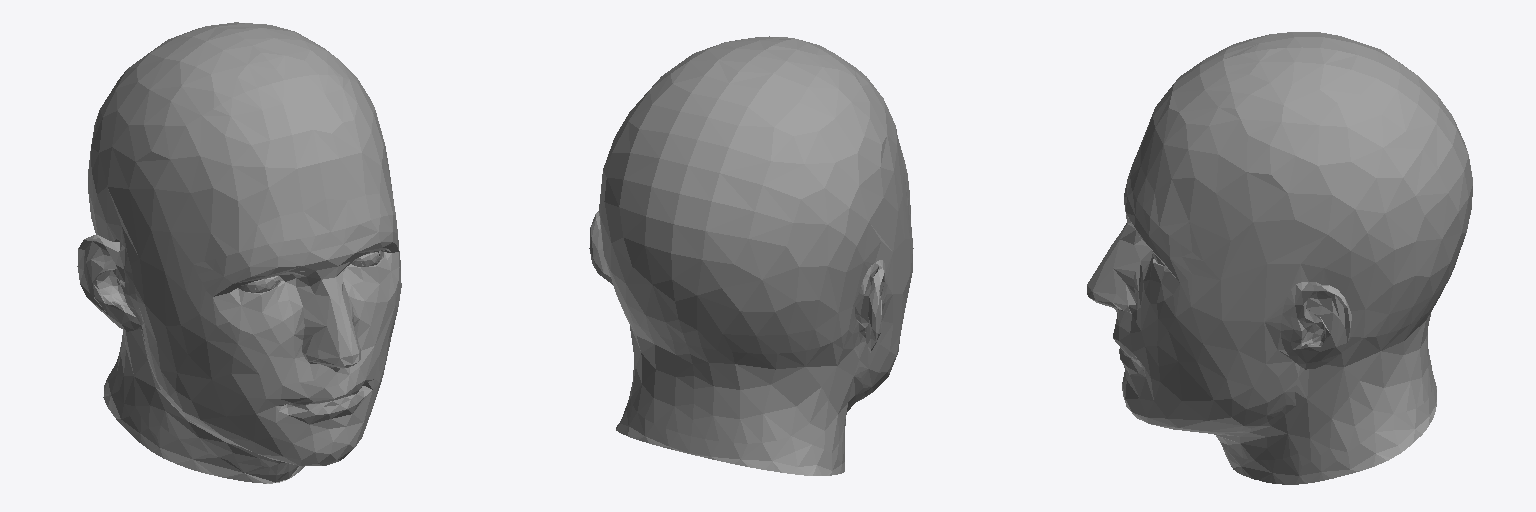
Rendered from BaseHeadMeshes_v5_male_cropped_reduced_compressed.obj.
The picture shows the model from 3 angles: view 1: azimuth 30°, elevation 25°; view 2: azimuth 150°, elevation 25°; view 3: azimuth 270°, elevation 25°; orthographic projection.
Visible parts, largest first — view 1: mmGroup0; view 2: mmGroup0; view 3: mmGroup0.
Part boxes in pixels (x1,y1,x2,y2): mmGroup0: (77, 22, 401, 483); mmGroup0: (589, 36, 913, 475); mmGroup0: (1087, 32, 1472, 484).
Size of the model in its own units: 0.1874 by 0.2598 by 0.2184.